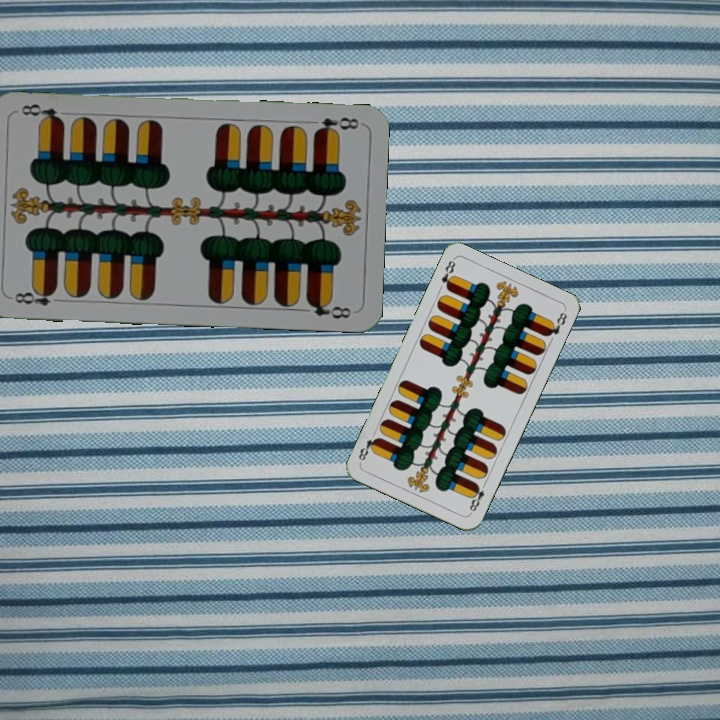E8: (7, 285, 66, 308), (311, 112, 361, 137), (465, 478, 489, 516), (437, 256, 458, 292)
